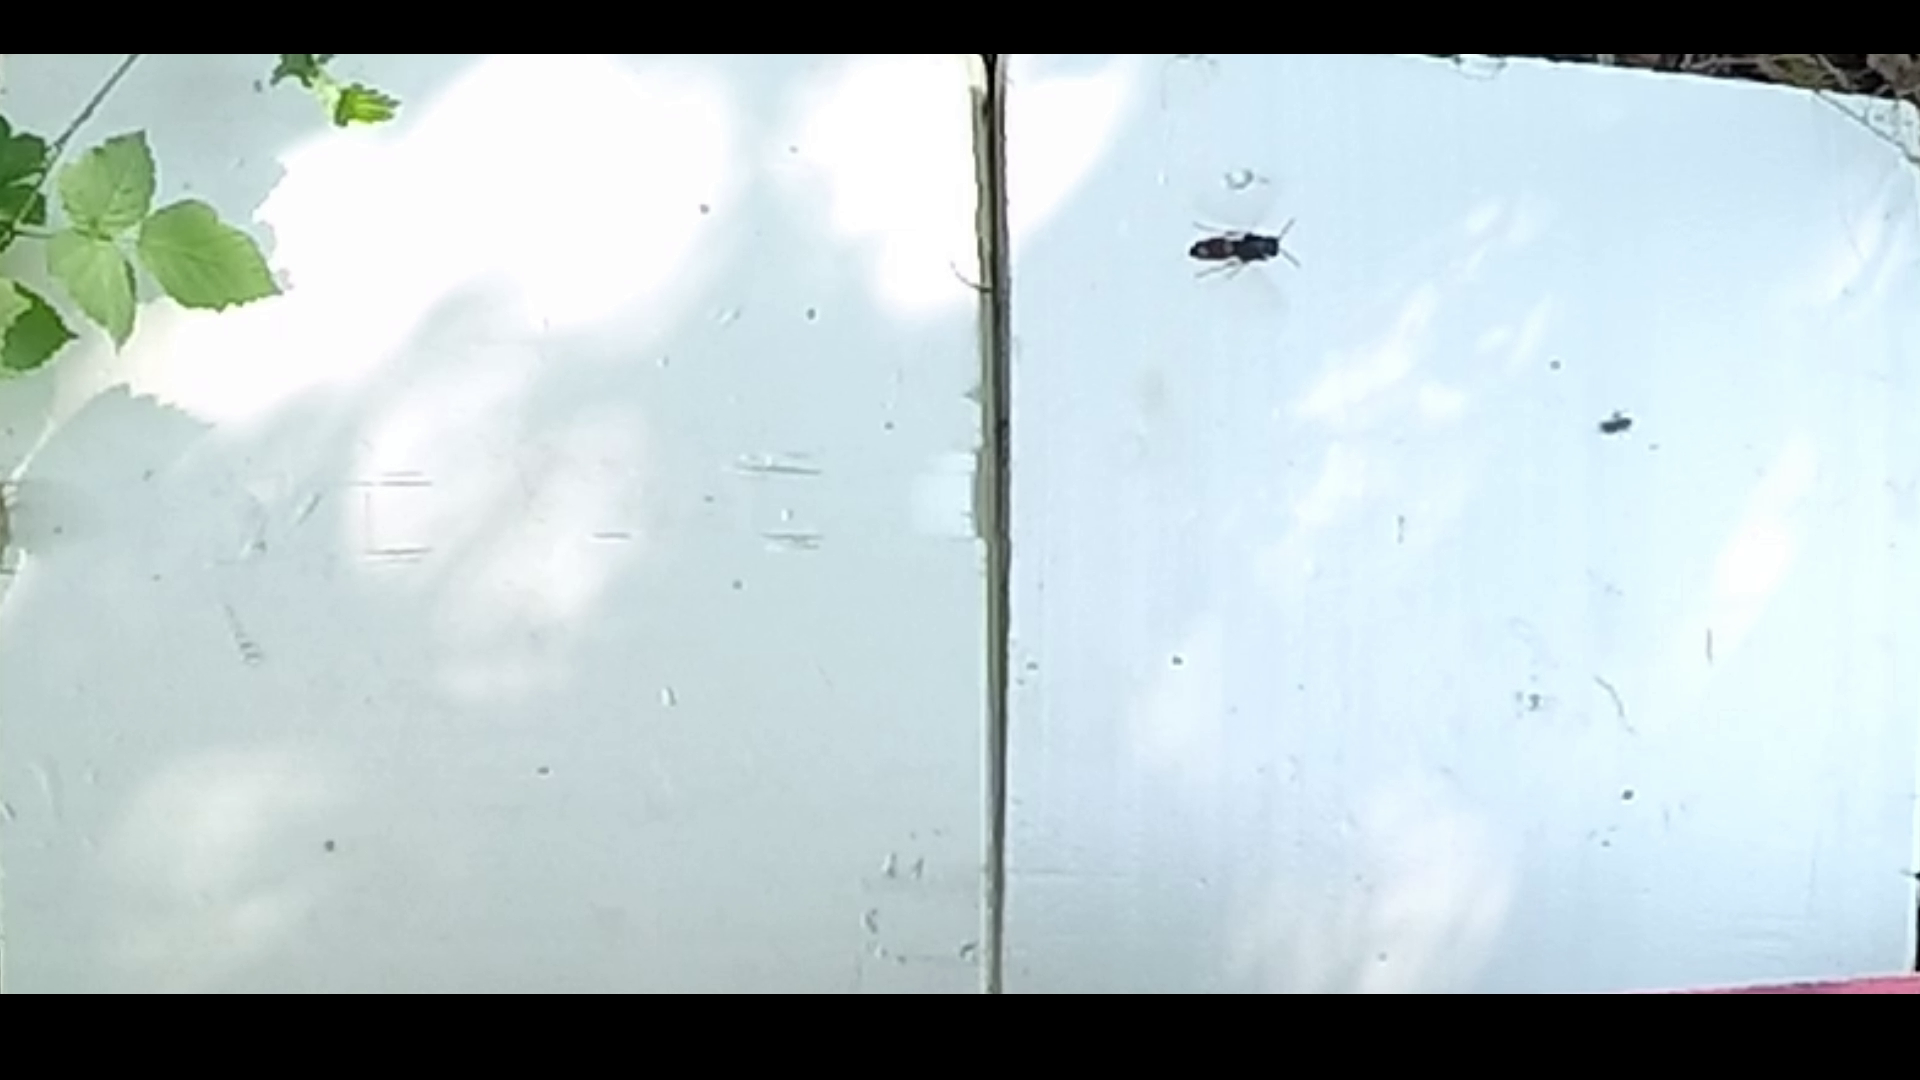Asian_hornets: (1180, 199, 1309, 297)
